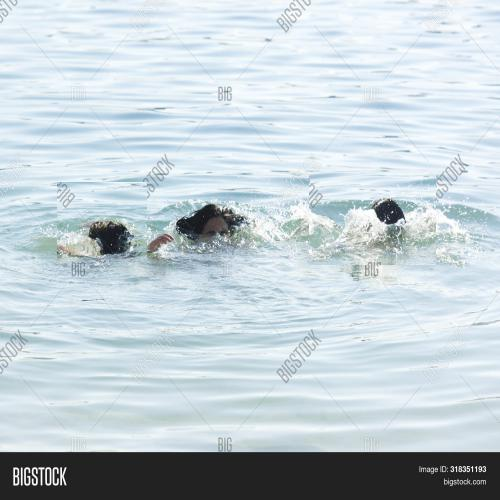drowning: (161, 160, 288, 259), (309, 172, 437, 266), (57, 182, 148, 263)
